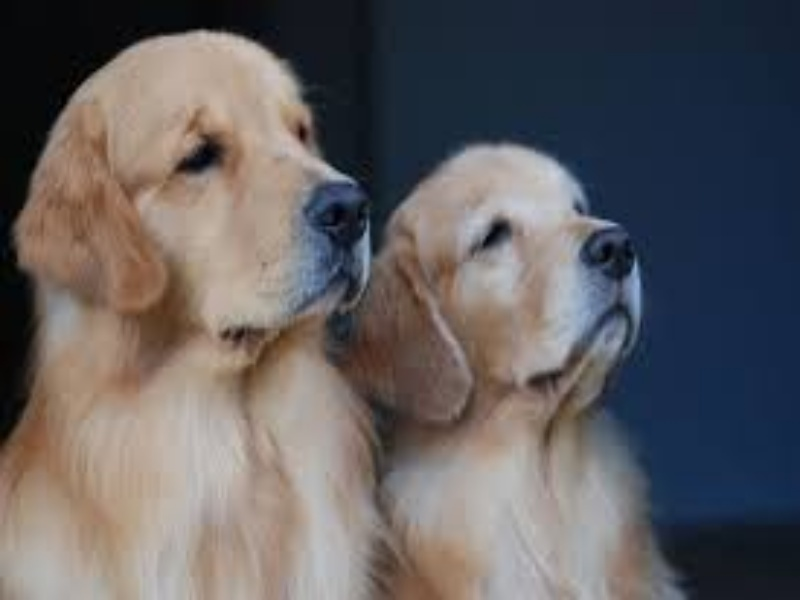dog: (21, 27, 410, 583), (377, 116, 681, 528)
